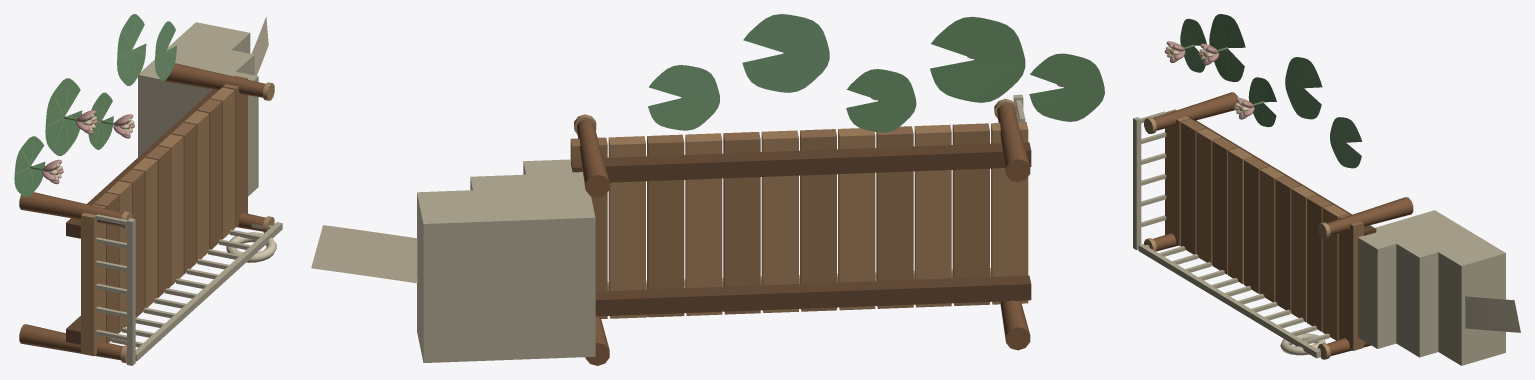
File: lotusPier.glb
The picture shows the model from 3 angles, left to right: view 1: azimuth 30°, elevation 25°; view 2: azimuth 150°, elevation 25°; view 3: azimuth 270°, elevation 25°; orthographic projection. The views are drawn at different scales.
Visible parts, largest first — view 1: lotusPier (×3); view 2: lotusPier (×3); view 3: lotusPier (×3).
Part boxes in pixels (left/top/right/bottom): lotusPier (×3): left=14, top=14, right=282, bottom=365; lotusPier (×3): left=311, top=14, right=1104, bottom=365; lotusPier (×3): left=1133, top=14, right=1520, bottom=365.
Bounding box in the file's own units: 0.3517 × 0.2009 × 0.2958.
